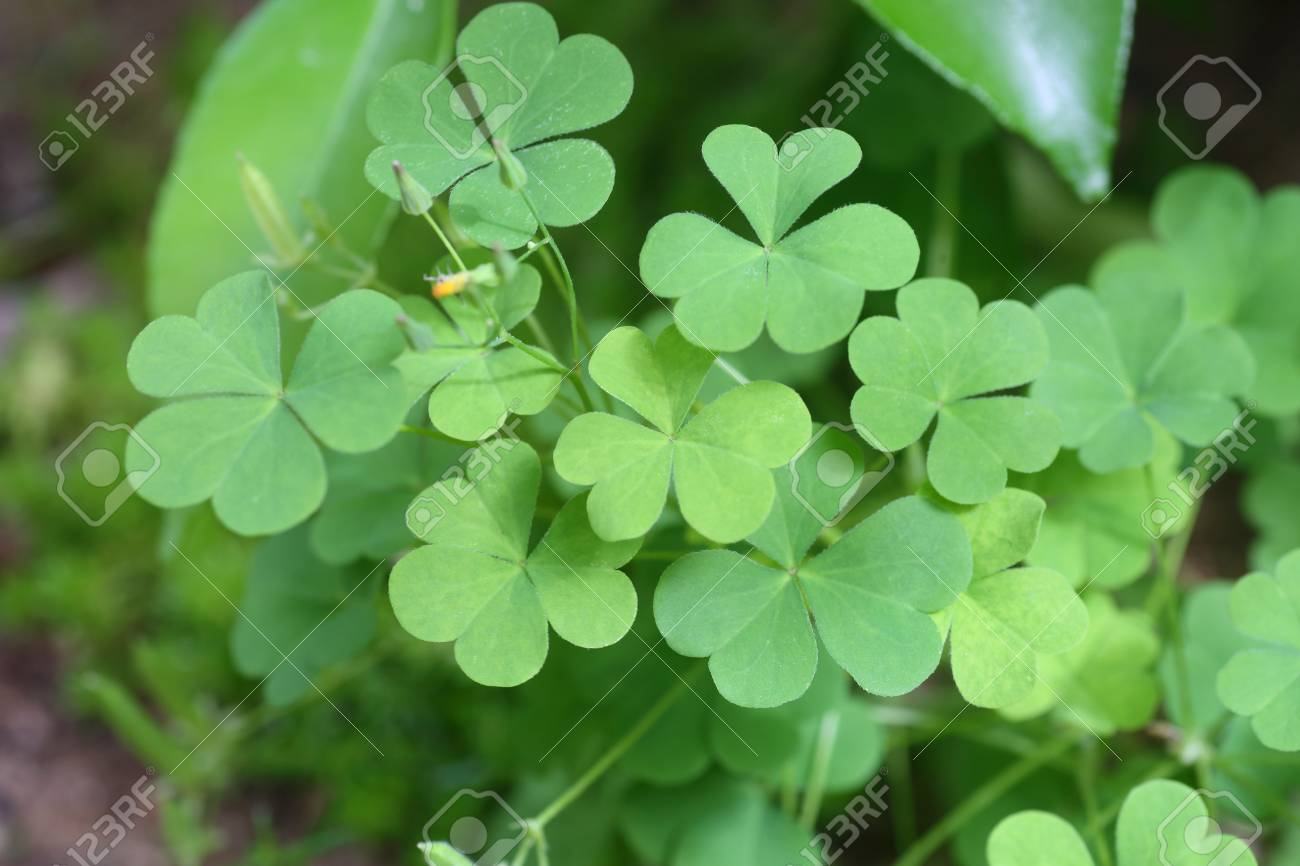oxalis: (179, 102, 1300, 771)
